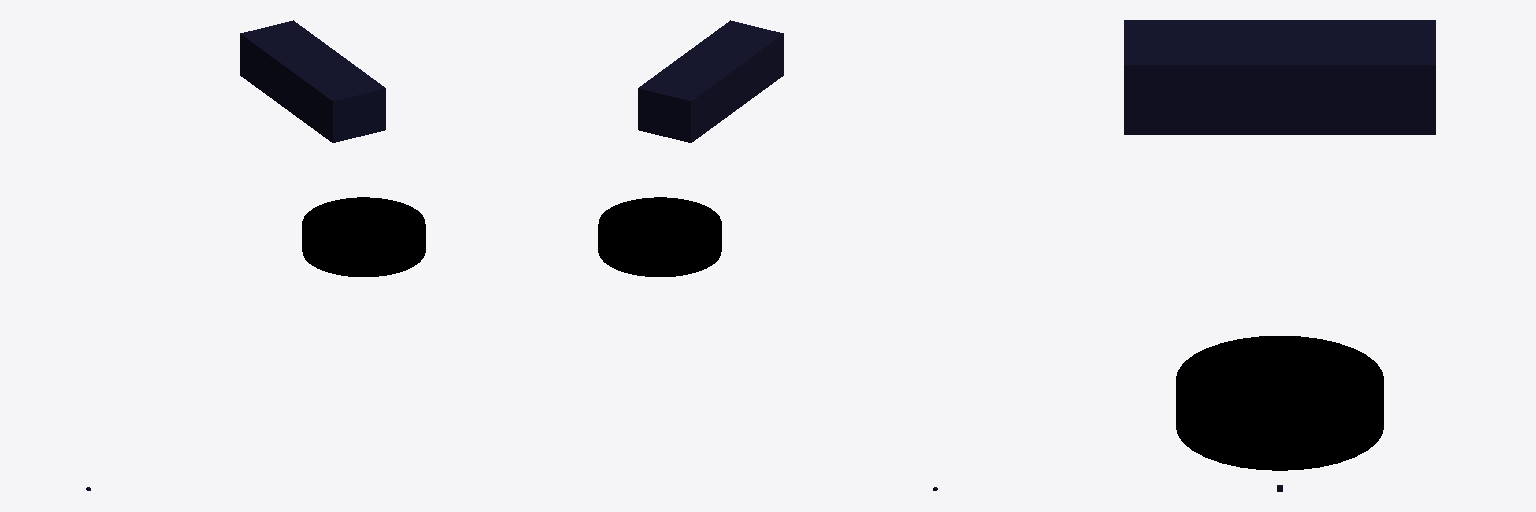
URDF robot description (arap_robot):
<?xml version="1.0" ?>
<!-- =================================================================================== -->
<!-- |    This document was autogenerated by xacro from urdf/control/diff/system.urdf.xacro | -->
<!-- |    EDITING THIS FILE BY HAND IS NOT RECOMMENDED                                 | -->
<!-- =================================================================================== -->
<robot name="arap_robot">
  <material name="dark_gray">
    <color rgba="0.2 0.2 0.2 1.0"/>
  </material>
  <material name="invisible">
    <color rgba="0 0 0 0"/>
  </material>
  <material name="blue">
    <color rgba="0 0 0.8 1"/>
  </material>
  <!-- Base link -->
  <link name="base_link"/>
  <!-- Chassis -->
  <joint name="chassis_joint" type="fixed">
    <parent link="base_link"/>
    <child link="chassis"/>
    <origin xyz="0.0 0.0 0.15"/>
  </joint>
  <link name="chassis">
    <visual name="chassis_visual">
      <origin rpy="0 0 1.57" xyz="0 0 -0.15"/>
      <geometry>
        <mesh filename="package://arap_robot_description/meshes/chassis/chassis.dae" scale="1 1 1"/>
      </geometry>
    </visual>
    <collision name="chassis_collision">
      <origin rpy="0 0 1.57" xyz="0 0 -0.15"/>
      <geometry>
        <mesh filename="package://arap_robot_description/meshes/chassis/chassis.stl" scale="1 1 1"/>
      </geometry>
    </collision>
    <inertial name="chassis_inertial">
      <origin rpy="0 0 1.57" xyz="0 0 0"/>
      <mass value="2.1557"/>
      <inertia ixx="0.0043832566666666675" ixy="0" ixz="0" iyy="0.004832360833333334" iyz="0" izz="0.005622784166666667"/>
    </inertial>
  </link>
  <joint name="laser_joint" type="fixed">
    <parent link="chassis"/>
    <child link="laser_frame"/>
    <origin rpy="0 0 0" xyz="0.103 0 -0.034"/>
  </joint>
  <link name="laser_frame">
    <pose>0 0 0 0 0 0</pose>
    <visual name="laser_visual">
      <origin rpy="0 0 0" xyz="0 0 0"/>
      <geometry>
        <cylinder length="0.01" radius="0.02"/>
      </geometry>
      <!-- For the color -->
      <material name="invisible"/>
    </visual>
    <collision name="laser_collision">
      <origin rpy="0 0 0" xyz="0 0 0"/>
      <geometry>
        <cylinder length="0.016" radius="0.032"/>
      </geometry>
    </collision>
    <inertial name="laser_inertial">
      <mass value="0.1"/>
      <origin rpy="0 0 0" xyz="0 0 0"/>
      <inertia ixx="1e-6" ixy="0" ixz="0" iyy="1e-6" iyz="0" izz="1e-6"/>
    </inertial>
  </link>
  <gazebo reference="laser_frame">
    <sensor name="laser" type="gpu_lidar">
      <pose> 0 0 0 0 0 0 </pose>
      <always_on>true</always_on>
      <visualize>true</visualize>
      <update_rate>2</update_rate>
      <lidar>
        <scan>
          <horizontal>
            <samples>720</samples>
            <resolution>1</resolution>
            <min_angle>-2.09439504</min_angle>
            <max_angle>2.09439504</max_angle>
          </horizontal>
        </scan>
        <range>
          <min>0.05</min>
          <max>8.0</max>
          <resolution>0.01</resolution>
        </range>
        <noise>
          <type>gaussian</type>
          <mean>0.0</mean>
          <stddev>0.01</stddev>
        </noise>
      </lidar>
      <topic>scan</topic>
      <frame_name>laser_frame</frame_name>
      <gz_frame_id>laser_frame</gz_frame_id>
    </sensor>
  </gazebo>
  <joint name="camera_joint" type="fixed">
    <parent link="chassis"/>
    <child link="camera_link"/>
    <origin rpy="0 0 0" xyz="0.084 0 0.026"/>
  </joint>
  <link name="camera_link">
    <pose>0 0 0 0 0 0</pose>
    <inertial>
      <mass value="0.1"/>
      <origin rpy="0 0 0" xyz="0 0 0"/>
      <inertia ixx="1e-6" ixy="0" ixz="0" iyy="1e-6" iyz="0" izz="1e-6"/>
    </inertial>
    <visual name="camera_visual">
      <origin rpy="0 0 0" xyz="0 0 0"/>
      <geometry>
        <box size="0.02 0.06 0.015"/>
      </geometry>
      <material name="camera_material">
        <color rgba="0.1 0.1 0.2 0"/>
      </material>
    </visual>
    <collision name="camera_collision">
      <origin rpy="0 0 0" xyz="0 0 0"/>
      <geometry>
        <box size="0.02 0.06 0.015"/>
      </geometry>
    </collision>
  </link>
  <joint name="camera_optical_joint" type="fixed">
    <parent link="camera_link"/>
    <child link="camera_optical_link"/>
    <origin rpy="-1.570795 0 -1.570795 " xyz="0 0 0"/>
  </joint>
  <link name="camera_optical_link"/>
  <gazebo reference="camera_link">
    <sensor name="camera" type="camera">
      <pose>0 0 0 0 0 0</pose>
      <always_on>true</always_on>
      <update_rate>10</update_rate>
      <visualize>true</visualize>
      <camera>
        <camera_info_topic>camera/camera_info</camera_info_topic>
        <horizontal_fov>1.047</horizontal_fov>
        <image>
          <width>640</width>
          <height>480</height>
          <format>R8G8B8</format>
        </image>
        <clip>
          <near>0.02</near>
          <far>300</far>
        </clip>
      </camera>
      <topic>camera/image_raw</topic>
      <gz_frame_id>camera_optical_link</gz_frame_id>
    </sensor>
  </gazebo>
  <link name="imu_link">
    <pose>0 0 0 0 0 0</pose>
    <inertial>
      <mass value="0.01"/>
      <origin rpy="0 0 0" xyz="0.0 0 0"/>
      <inertia ixx="1e-7" ixy="0" ixz="0" iyy="1e-7" iyz="0" izz="1e-7"/>
    </inertial>
    <visual name="imu_visual">
      <origin rpy="0 0 0" xyz="0 0 0"/>
      <geometry>
        <box size="0.001 0.001 0.001"/>
      </geometry>
      <material name="imu_material">
        <color rgba="0.1 0.1 0.2 0"/>
      </material>
    </visual>
    <collision name="imu_collision">
      <origin rpy="0 0 0" xyz="0 0 0"/>
      <geometry>
        <box size="0.001 0.001 0.001"/>
      </geometry>
    </collision>
  </link>
  <joint name="imu_joint" type="fixed">
    <origin rpy="0 0 0" xyz="0 0 -0.1"/>
    <parent link="chassis"/>
    <child link="imu_link"/>
  </joint>
  <gazebo reference="imu_link">
    <sensor name="imu" type="imu">
      <always_on>true</always_on>
      <update_rate>100</update_rate>
      <frame_name>imu_link</frame_name>
      <visualize>true</visualize>
      <imu>
        <angular_velocity>
          <x>
            <noise type="gaussian">
              <mean>0.0</mean>
              <stddev>2e-4</stddev>
            </noise>
          </x>
          <y>
            <noise type="gaussian">
              <mean>0.0</mean>
              <stddev>2e-4</stddev>
            </noise>
          </y>
          <z>
            <noise type="gaussian">
              <mean>0.0</mean>
              <stddev>2e-4</stddev>
            </noise>
          </z>
        </angular_velocity>
        <linear_acceleration>
          <x>
            <noise type="gaussian">
              <mean>0.0</mean>
              <stddev>1.7e-2</stddev>
            </noise>
          </x>
          <y>
            <noise type="gaussian">
              <mean>0.0</mean>
              <stddev>1.7e-2</stddev>
            </noise>
          </y>
          <z>
            <noise type="gaussian">
              <mean>0.0</mean>
              <stddev>1.7e-2</stddev>
            </noise>
          </z>
        </linear_acceleration>
      </imu>
      <topic>imu</topic>
      <gz_frame_id>imu_link</gz_frame_id>
    </sensor>
  </gazebo>
  <!-- <xacro:include filename="$(find arap_robot_description)/urdf/control/diff/velocity_control.xacro" /> -->
  <ros2_control name="GazeboSimSystem" type="system">
    <hardware>
      <plugin>gz_ros2_control/GazeboSimSystem</plugin>
    </hardware>
    <joint name="front_left_wheel_joint" type="continuous">
      <command_interface name="velocity">
        <param name="min">-50.0</param>
        <param name="max">50.0</param>
      </command_interface>
      <state_interface name="position"/>
      <state_interface name="velocity"/>
    </joint>
    <joint name="front_right_wheel_joint" type="continuous">
      <command_interface name="velocity">
        <param name="min">-50.0</param>
        <param name="max">50.0</param>
      </command_interface>
      <state_interface name="position"/>
      <state_interface name="velocity"/>
    </joint>
    <joint name="rear_left_wheel_joint" type="continuous">
      <command_interface name="velocity">
        <param name="min">-50.0</param>
        <param name="max">50.0</param>
      </command_interface>
      <state_interface name="position"/>
      <state_interface name="velocity"/>
    </joint>
    <joint name="rear_right_wheel_joint" type="continuous">
      <command_interface name="velocity">
        <param name="min">-50.0</param>
        <param name="max">50.0</param>
      </command_interface>
      <state_interface name="position"/>
      <state_interface name="velocity"/>
    </joint>
  </ros2_control>
  <gazebo>
    <plugin filename="libgz_ros2_control-system.so" name="gz_ros2_control::GazeboSimROS2ControlPlugin">
      <parameters>[local-path]/ros2_ws/install/arap_robot_description/share/arap_robot_description/config/ros2_controllers.yaml</parameters>
      <parameters>[local-path]/ros2_ws/install/arap_robot_description/share/arap_robot_description/config/gz_ros2_ctrl_use_sim.yaml</parameters>
      <ros>
        <remapping>/controller_manager/robot_description:=/robot_description</remapping>
      </ros>
    </plugin>
  </gazebo>
  <joint name="front_left_wheel_joint" type="continuous">
    <parent link="base_link"/>
    <child link="front_left_wheel"/>
    <origin rpy="0 0 0" xyz="0.1 0.065 0.05"/>
    <axis xyz="0 1 0">
      <limit>
        <effort>20</effort>
      </limit>
    </axis>
  </joint>
  <link name="front_left_wheel">
    <visual name="front_left_wheel_visual">
      <origin rpy="0 0 0" xyz="0 0.0005 0"/>
      <geometry>
        <mesh filename="package://arap_robot_description/meshes/wheels/regular/regular.dae"/>
      </geometry>
    </visual>
    <collision name="front_left_wheel_collision">
      <origin rpy="0 0 0" xyz="0 0.0005 0"/>
      <geometry>
        <mesh filename="package://arap_robot_description/meshes/wheels/regular/regular.stl"/>
      </geometry>
    </collision>
    <inertial name="front_left_wheel_inertial">
      <origin rpy="1.570795 0 0" xyz="0 0.0225 0"/>
      <mass value="0.5"/>
      <inertia ixx="0.00033749999999999996" ixy="0.0" ixz="0.0" iyy="0.00033749999999999996" iyz="0.0" izz="0.00050625"/>
    </inertial>
  </link>
  <gazebo reference="front_left_wheel">
    <collision>
      <surface>
        <friction>
          <ode>
            <mu>10</mu>
            <mu2>10</mu2>
            <slip1>0.035</slip1>
            <slip2>0</slip2>
            <fdir1>0 0 1</fdir1>
          </ode>
        </friction>
      </surface>
    </collision>
  </gazebo>
  <joint name="front_right_wheel_joint" type="continuous">
    <parent link="base_link"/>
    <child link="front_right_wheel"/>
    <origin rpy="3.14159 0 0" xyz="0.1 -0.065 0.05"/>
    <axis xyz="0 -1 0">
      <limit>
        <effort>20</effort>
      </limit>
    </axis>
  </joint>
  <link name="front_right_wheel">
    <visual name="front_right_wheel_visual">
      <origin rpy="0 0 0" xyz="0 0.0005 0"/>
      <geometry>
        <mesh filename="package://arap_robot_description/meshes/wheels/regular/regular.dae"/>
      </geometry>
    </visual>
    <collision name="front_right_wheel_collision">
      <origin rpy="0 0 0" xyz="0 0.0005 0"/>
      <geometry>
        <mesh filename="package://arap_robot_description/meshes/wheels/regular/regular.stl"/>
      </geometry>
    </collision>
    <inertial name="front_right_wheel_inertial">
      <origin rpy="1.570795 0 0" xyz="0 0.0225 0"/>
      <mass value="0.5"/>
      <inertia ixx="0.00033749999999999996" ixy="0.0" ixz="0.0" iyy="0.00033749999999999996" iyz="0.0" izz="0.00050625"/>
    </inertial>
  </link>
  <gazebo reference="front_right_wheel">
    <collision>
      <surface>
        <friction>
          <ode>
            <mu>10</mu>
            <mu2>10</mu2>
            <slip1>0.035</slip1>
            <slip2>0</slip2>
            <fdir1>0 0 1</fdir1>
          </ode>
        </friction>
      </surface>
    </collision>
  </gazebo>
  <joint name="rear_left_wheel_joint" type="continuous">
    <parent link="base_link"/>
    <child link="rear_left_wheel"/>
    <origin rpy="0 0 0" xyz="-0.1 0.065 0.05"/>
    <axis xyz="0 1 0">
      <limit>
        <effort>20</effort>
      </limit>
    </axis>
  </joint>
  <link name="rear_left_wheel">
    <visual name="rear_left_wheel_visual">
      <origin rpy="0 0 0" xyz="0 0.0005 0"/>
      <geometry>
        <mesh filename="package://arap_robot_description/meshes/wheels/regular/regular.dae"/>
      </geometry>
    </visual>
    <collision name="rear_left_wheel_collision">
      <origin rpy="0 0 0" xyz="0 0.0005 0"/>
      <geometry>
        <mesh filename="package://arap_robot_description/meshes/wheels/regular/regular.stl"/>
      </geometry>
    </collision>
    <inertial name="rear_left_wheel_inertial">
      <origin rpy="1.570795 0 0" xyz="0 0.0225 0"/>
      <mass value="0.5"/>
      <inertia ixx="0.00033749999999999996" ixy="0.0" ixz="0.0" iyy="0.00033749999999999996" iyz="0.0" izz="0.00050625"/>
    </inertial>
  </link>
  <gazebo reference="rear_left_wheel">
    <collision>
      <surface>
        <friction>
          <ode>
            <mu>10</mu>
            <mu2>10</mu2>
            <slip1>0.035</slip1>
            <slip2>0</slip2>
            <fdir1>0 0 1</fdir1>
          </ode>
        </friction>
      </surface>
    </collision>
  </gazebo>
  <joint name="rear_right_wheel_joint" type="continuous">
    <parent link="base_link"/>
    <child link="rear_right_wheel"/>
    <origin rpy="3.14159 0 0" xyz="-0.1 -0.065 0.05"/>
    <axis xyz="0 -1 0">
      <limit>
        <effort>20</effort>
      </limit>
    </axis>
  </joint>
  <link name="rear_right_wheel">
    <visual name="rear_right_wheel_visual">
      <origin rpy="0 0 0" xyz="0 0.0005 0"/>
      <geometry>
        <mesh filename="package://arap_robot_description/meshes/wheels/regular/regular.dae"/>
      </geometry>
    </visual>
    <collision name="rear_right_wheel_collision">
      <origin rpy="0 0 0" xyz="0 0.0005 0"/>
      <geometry>
        <mesh filename="package://arap_robot_description/meshes/wheels/regular/regular.stl"/>
      </geometry>
    </collision>
    <inertial name="rear_right_wheel_inertial">
      <origin rpy="1.570795 0 0" xyz="0 0.0225 0"/>
      <mass value="0.5"/>
      <inertia ixx="0.00033749999999999996" ixy="0.0" ixz="0.0" iyy="0.00033749999999999996" iyz="0.0" izz="0.00050625"/>
    </inertial>
  </link>
  <gazebo reference="rear_right_wheel">
    <collision>
      <surface>
        <friction>
          <ode>
            <mu>10</mu>
            <mu2>10</mu2>
            <slip1>0.035</slip1>
            <slip2>0</slip2>
            <fdir1>0 0 1</fdir1>
          </ode>
        </friction>
      </surface>
    </collision>
  </gazebo>
</robot>

--- Facts derived from the render (not from the file) ---
Views: 3 orthographic renders of the robot side by side, from view 1: azimuth 30°, elevation 25°; view 2: azimuth 150°, elevation 25°; view 3: azimuth 270°, elevation 25°.
Model arap_robot with 10 links and 9 joints (4 continuous, 5 fixed), rooted at base_link, posed every joint at zero.
Links seen in each view (by area): view 1: camera_link, laser_frame; view 2: camera_link, laser_frame; view 3: camera_link, laser_frame.
Link boxes in pixels (x1,y1,x2,y2): camera_link: (240,20,385,142); laser_frame: (302,197,425,276); camera_link: (638,20,783,142); laser_frame: (598,197,721,276); camera_link: (1124,20,1435,134); laser_frame: (1176,336,1383,470).
Bounding box of the posed robot: 0.1235 × 0.06 × 0.134 m (x, y, z).
Meshes: 2 distinct files referenced, 0 mesh visuals loaded (none loaded); not drawn: 5 (reference not matched to a file when rendering).